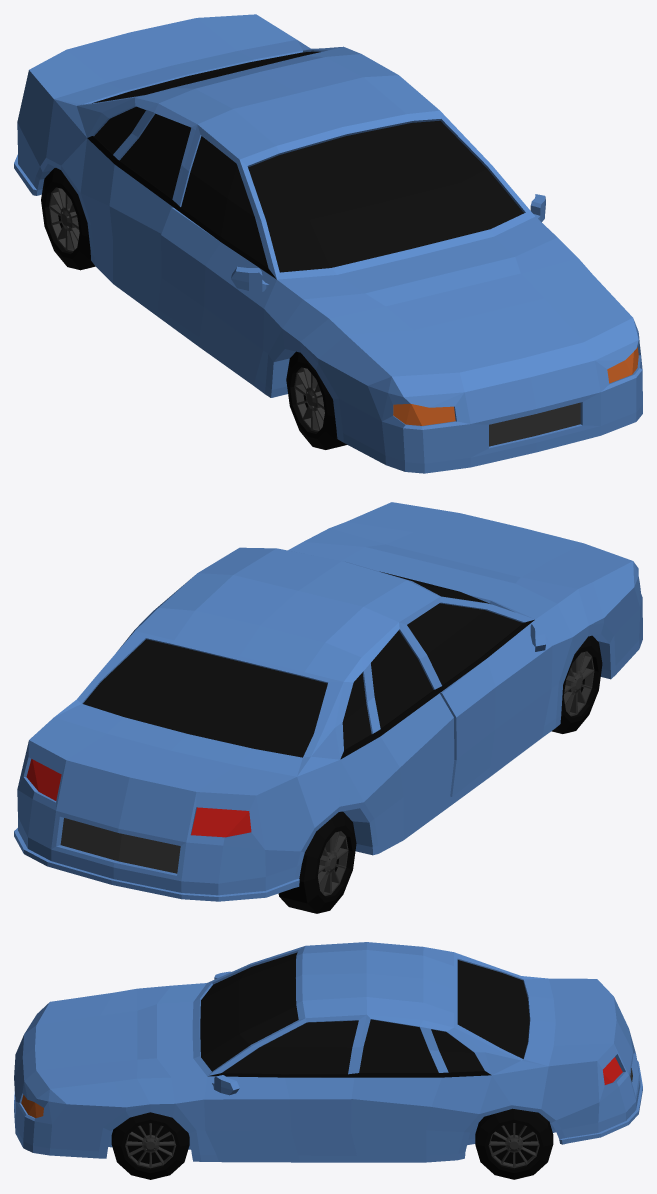
Rendered from car_NormalCar1.glb.
3 views of the same model, one above another, from view 1: azimuth 30°, elevation 25°; view 2: azimuth 150°, elevation 25°; view 3: azimuth 270°, elevation 25° (orthographic). The views are drawn at different scales.
Parts seen in each view (by area): view 1: NormalCar1, NormalCar1_BackWheels, NormalCar1_FrontRightWheel; view 2: NormalCar1, NormalCar1_BackWheels, NormalCar1_FrontRightWheel; view 3: NormalCar1, NormalCar1_BackWheels, NormalCar1_FrontLeftWheel.
Boxes of the visible parts, x1=… form: NormalCar1: x1=14, y1=14, x2=642, y2=473; NormalCar1_BackWheels: x1=41, y1=168, x2=95, y2=270; NormalCar1_FrontRightWheel: x1=286, y1=351, x2=346, y2=449; NormalCar1: x1=14, y1=502, x2=642, y2=901; NormalCar1_BackWheels: x1=278, y1=811, x2=356, y2=913; NormalCar1_FrontRightWheel: x1=551, y1=635, x2=602, y2=733; NormalCar1: x1=14, y1=942, x2=642, y2=1162; NormalCar1_BackWheels: x1=475, y1=1108, x2=553, y2=1179; NormalCar1_FrontLeftWheel: x1=111, y1=1112, x2=189, y2=1179.
Bounding box in the file's own units: 1.88 × 1.23 × 4.4.
Materials: 1 (1 with a texture image).
